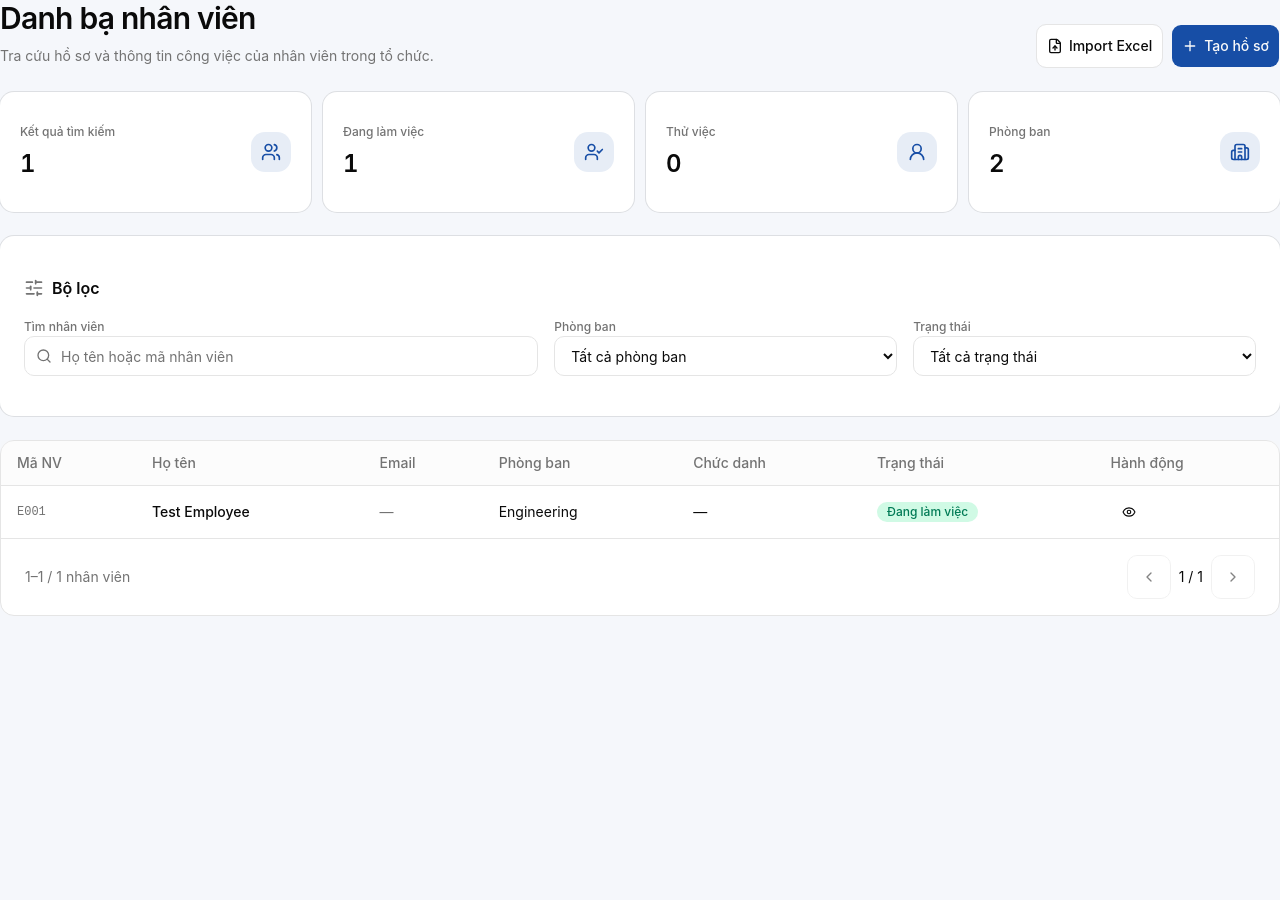
Scenario: account loading failure offers retry instead of claiming there are no accounts
This screenshot has width=1280, height=900.
Step 1. Click the button "Tạo hồ sơ" → (1226, 46), box [1171, 24, 1279, 68]
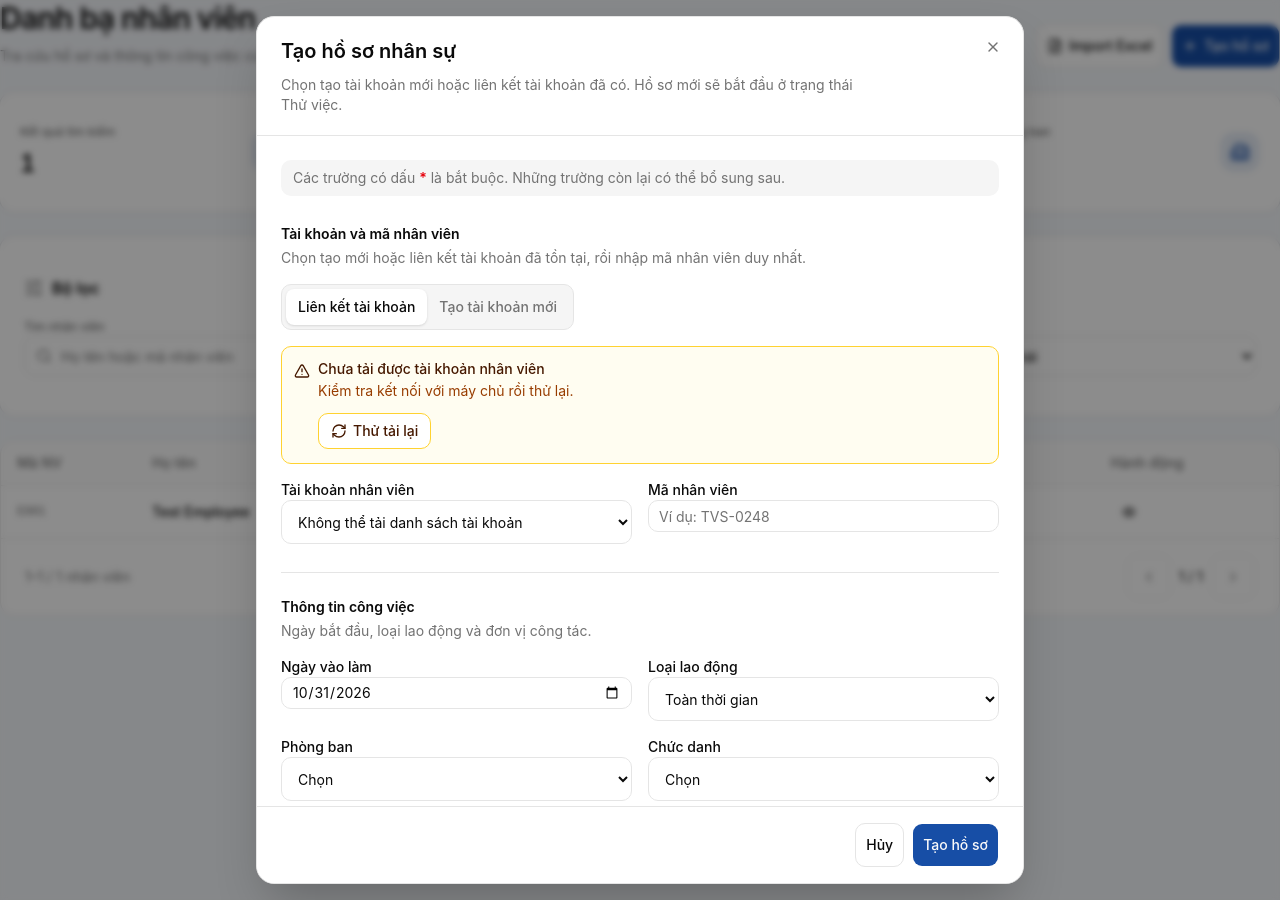
Check: the text "Chưa tải được tài khoản nhân viên" is shown, box [318, 360, 545, 377]
Check: the dropdown with id "create-userId" is disabled, box [281, 500, 632, 544]
Check: the button "Thử tải lại" is shown
Step 2. Click the button "Thử tải lại" → (375, 431), box [318, 413, 431, 449]
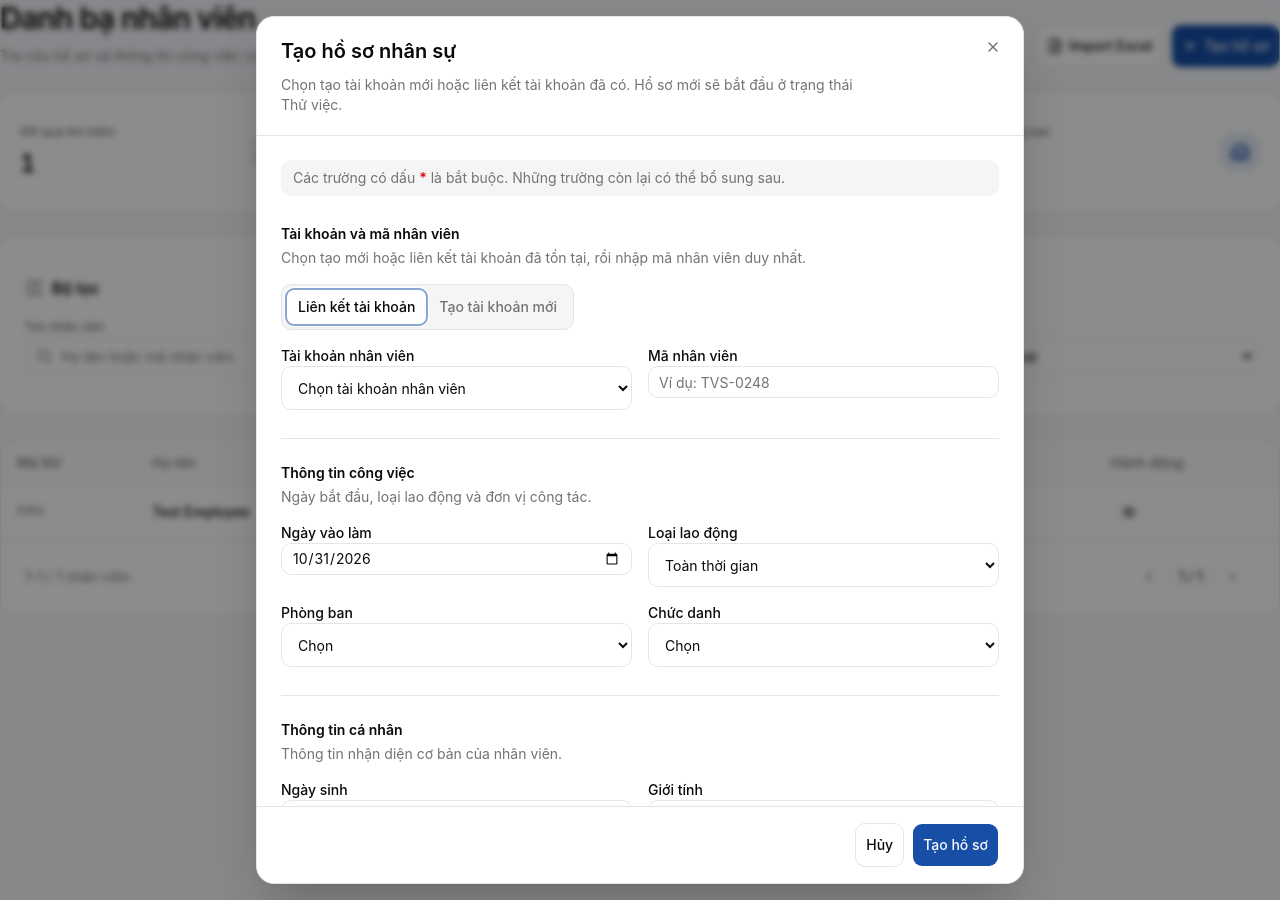
Check: the text "Chưa tải được tài khoản nhân viên" is gone
Check: the dropdown with id "create-userId" is enabled, box [281, 366, 632, 410]
